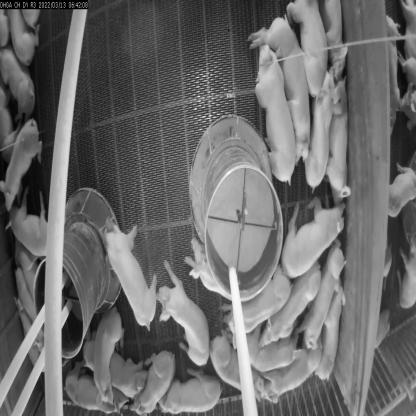Pig: (250, 0, 315, 167), (242, 20, 292, 186), (103, 224, 169, 340), (150, 252, 209, 376), (273, 181, 347, 279), (257, 336, 325, 415), (283, 0, 335, 93), (129, 307, 171, 412), (211, 320, 266, 400), (304, 232, 342, 346), (300, 68, 334, 188), (94, 324, 148, 396), (264, 274, 322, 340), (227, 272, 290, 331), (327, 74, 352, 212), (0, 39, 41, 120), (2, 124, 42, 207), (96, 302, 130, 398), (63, 361, 120, 416), (236, 330, 296, 376), (9, 204, 57, 258), (319, 288, 341, 385), (168, 376, 218, 414)
